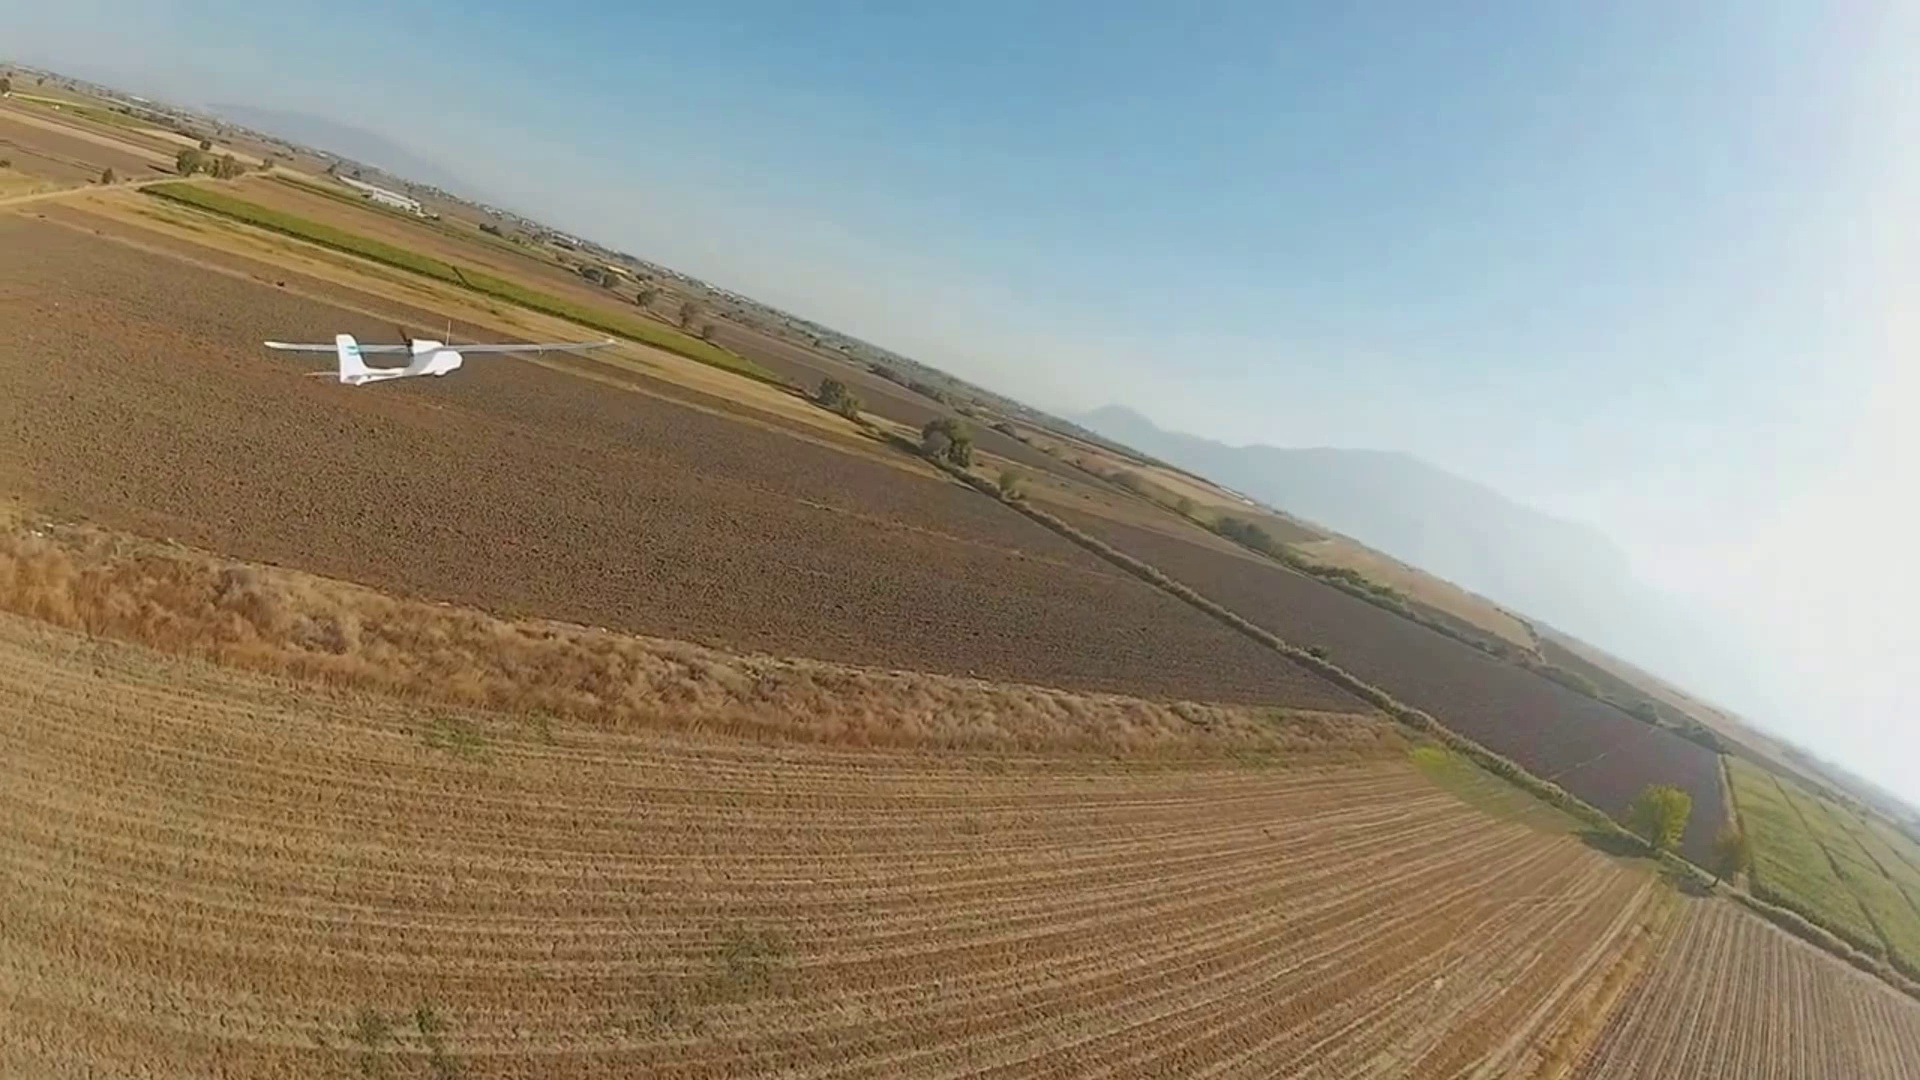airplane: (262, 330, 460, 381)
